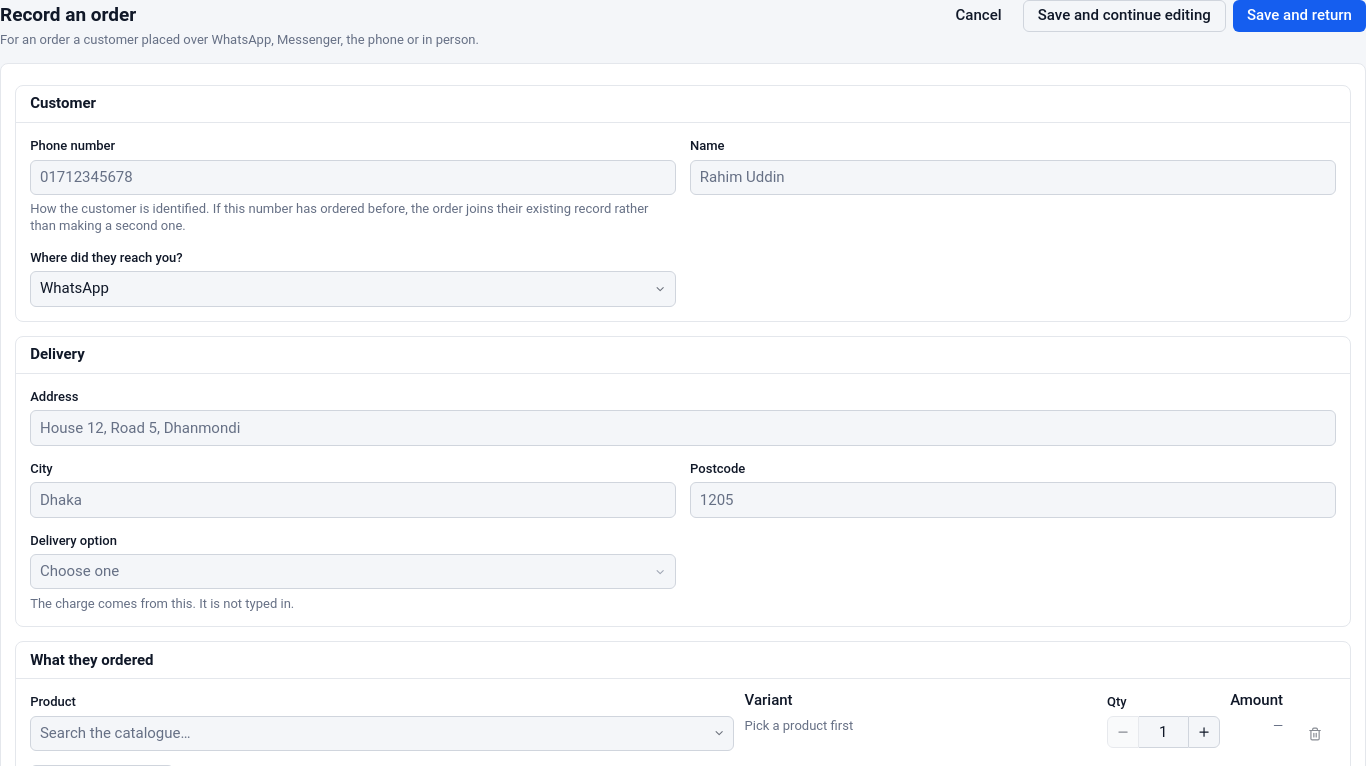
Test: OrderCreatePage — prices are shown, never typed › renders the catalogue price as text with no control bound to it
Click the dropdown named "product for line 1". click: (115, 733)
box: [30,716,734,751]
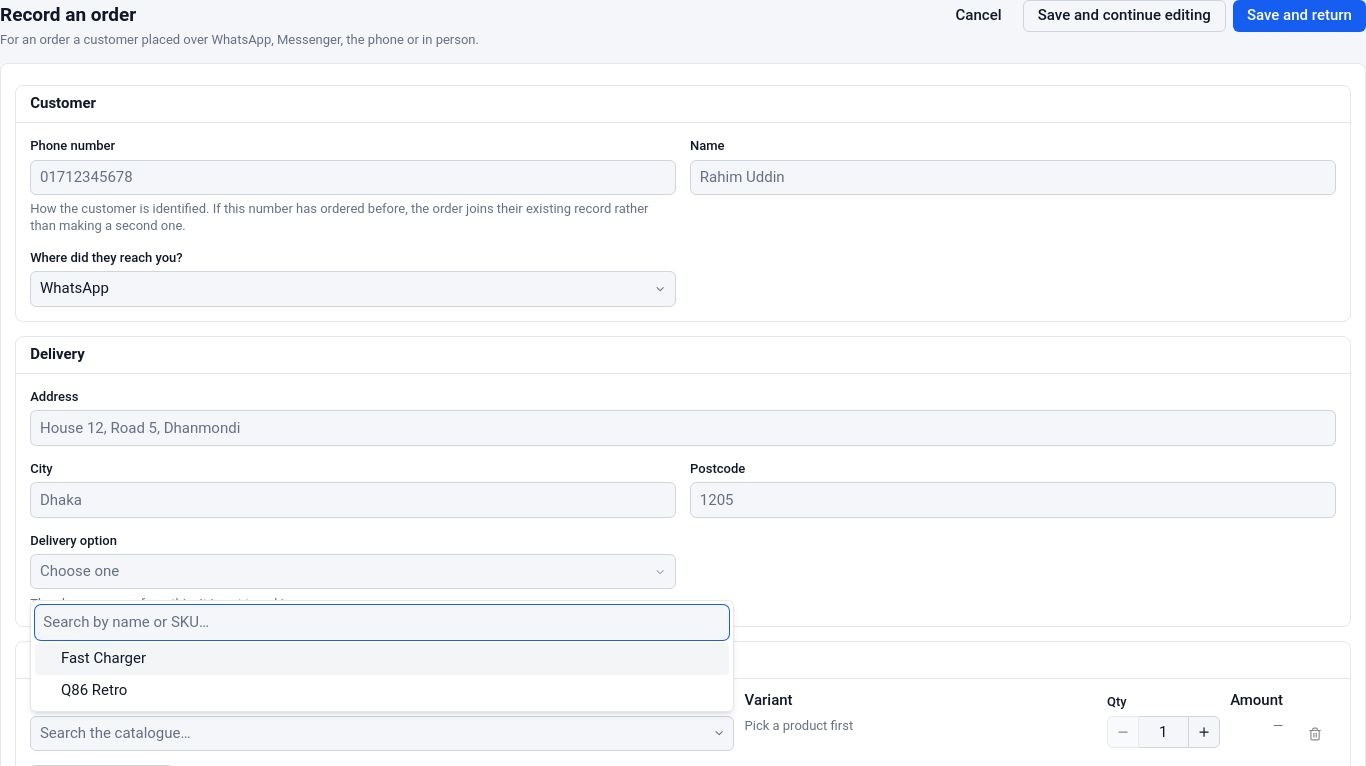
Click the option "Fast Charger". click: (103, 658)
box: [34,643,729,675]
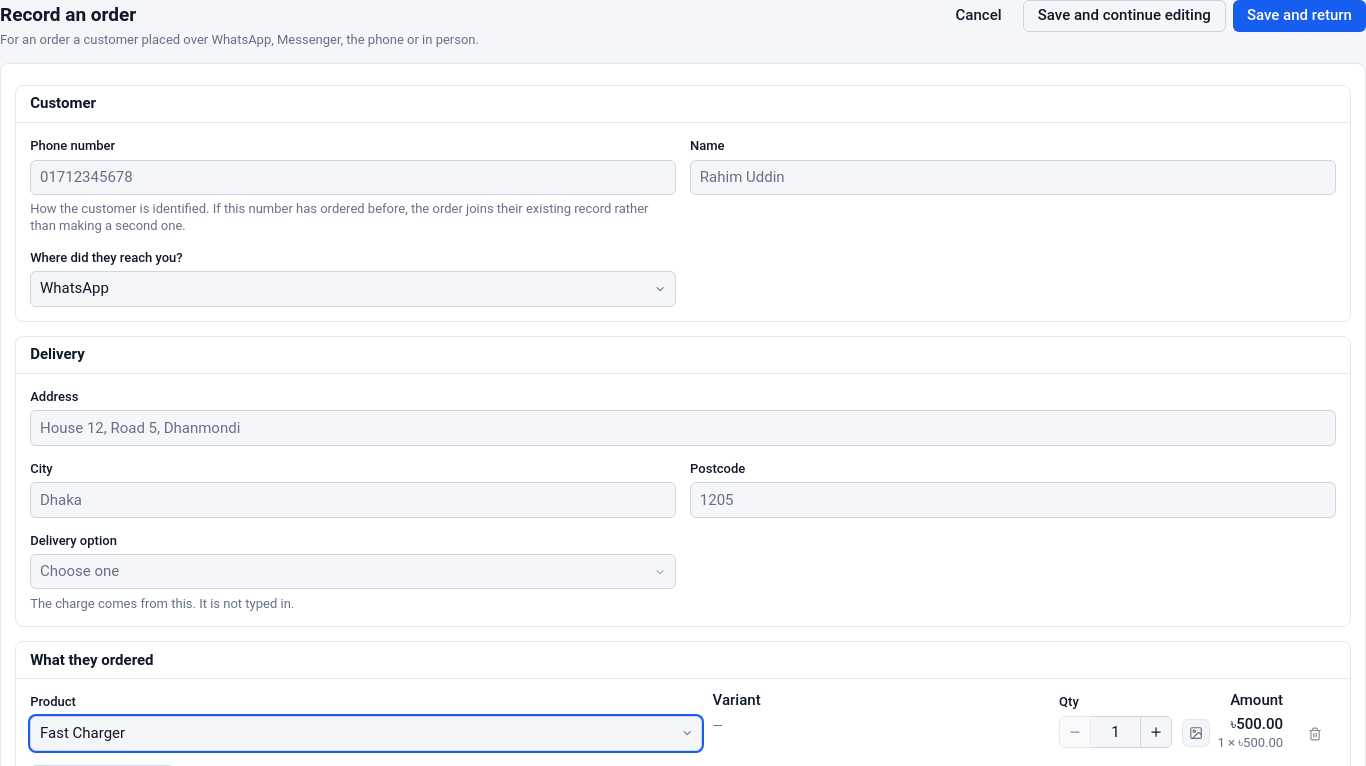
Expected: the text "৳500.00" is shown, [1230,715,1283,734]
